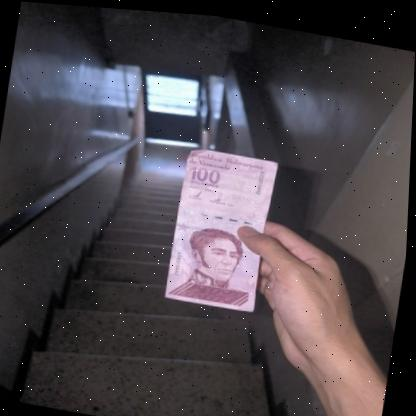one_hundred-front-vef: (164, 140, 281, 312)
